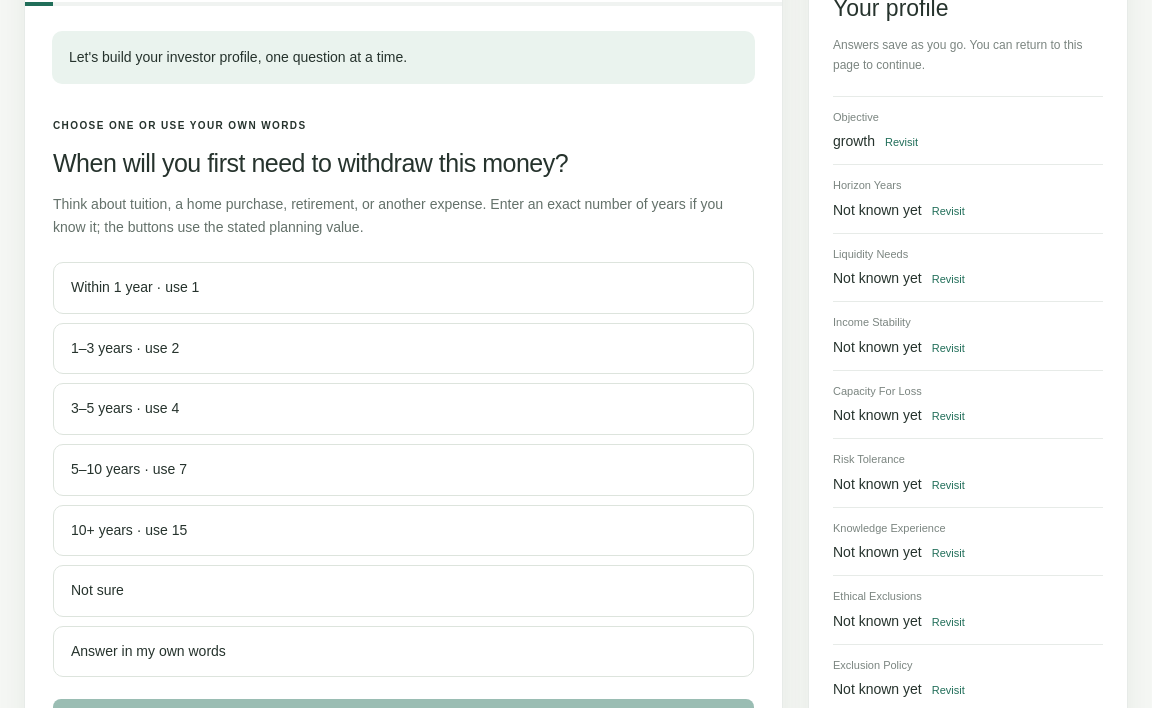
Test: highlights a conflicting button answer and its follow-up with evidence and clears after resolution
The width and height of the screenshot is (1152, 708).
(page scrolled)
Click the button "1–3 years · use 2".
click(125, 348)  # box [53, 323, 754, 374]
(page scrolled)
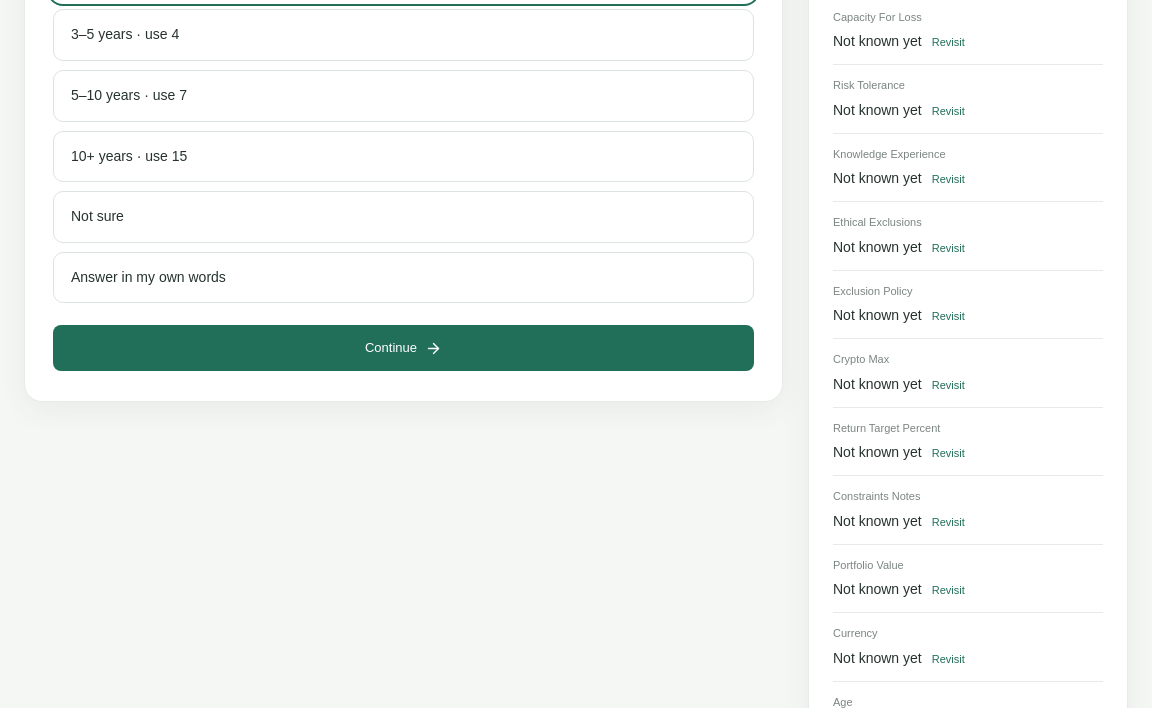
Click the button "Continue".
click(404, 348)  # box [53, 325, 754, 371]
(page scrolled)
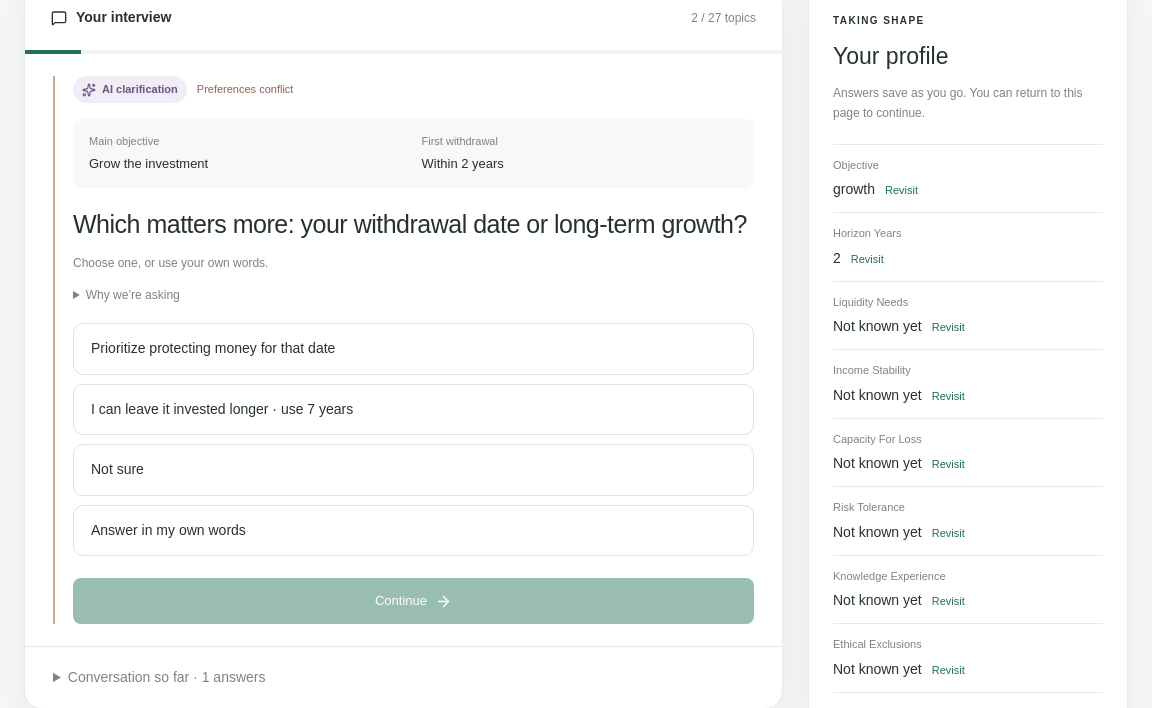
Check: the text "Preferences conflict" is shown, box [197, 82, 293, 98]
Check: the text "Grow the investment" is shown, box [89, 156, 208, 172]
Check: the heading "Which matters more: your withdrawal date or long-term growth?" is shown, box [73, 208, 754, 242]
Click the button "Prioritize protecting money for that date".
click(213, 348)  # box [73, 323, 754, 374]
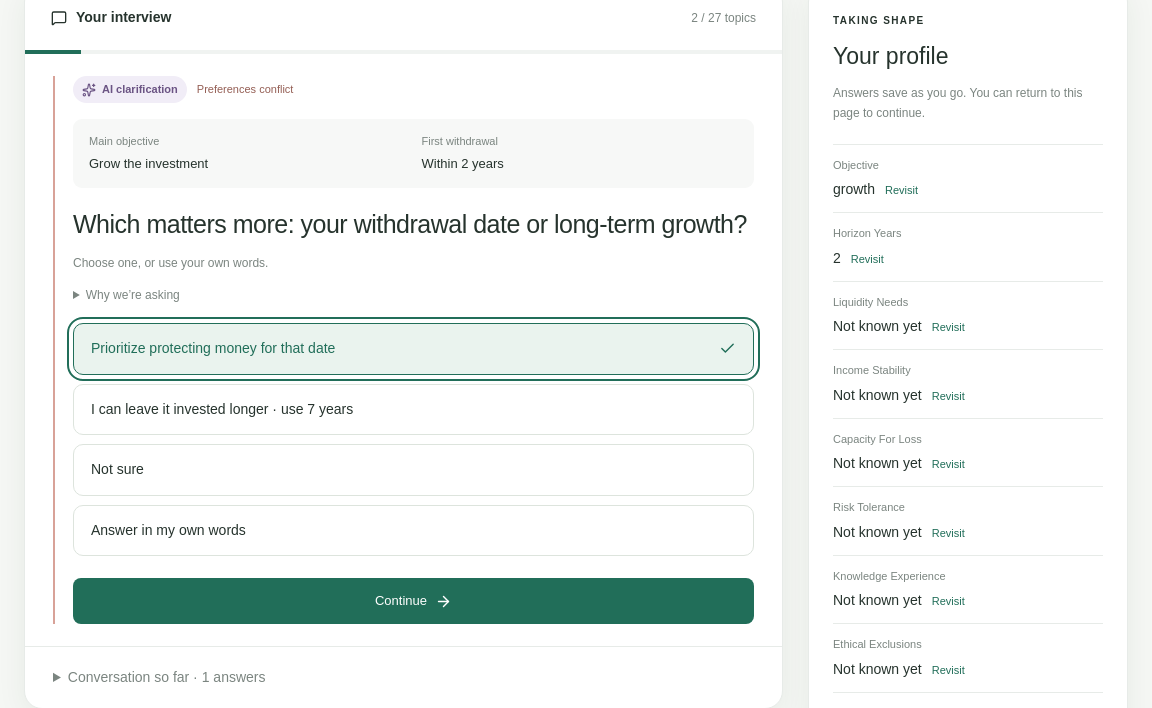
Click the button "Continue".
click(414, 601)  # box [73, 578, 754, 624]
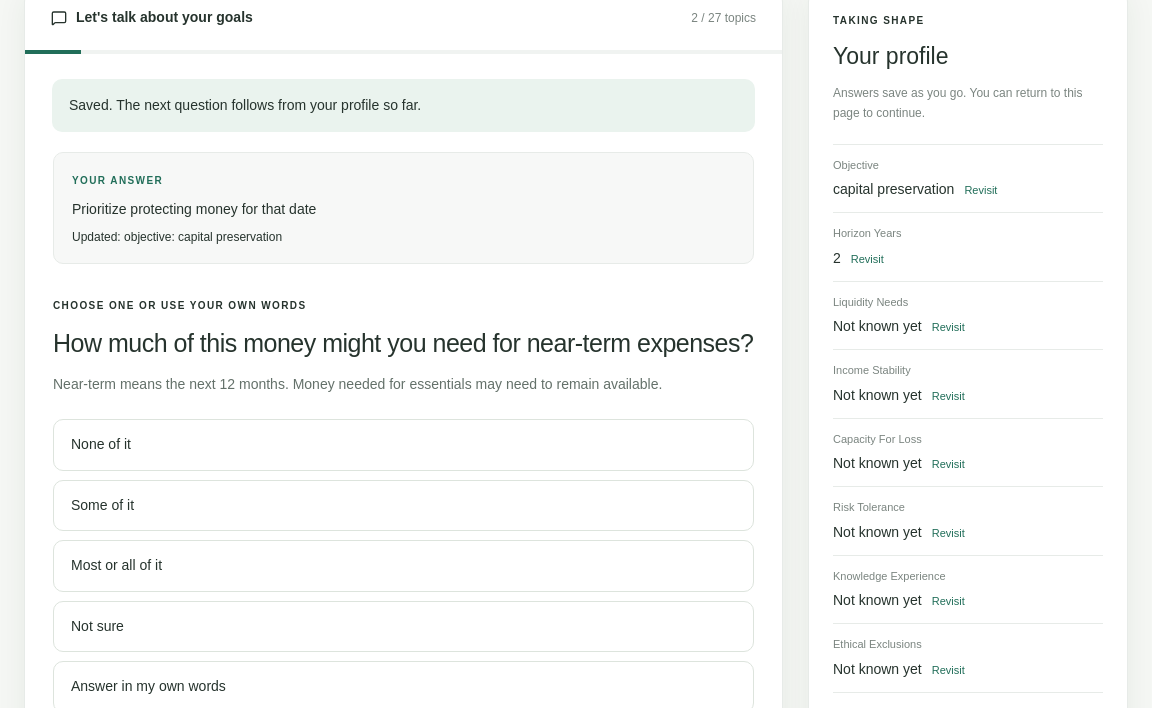
Check: the form with class "interview-question--conflict" is gone
